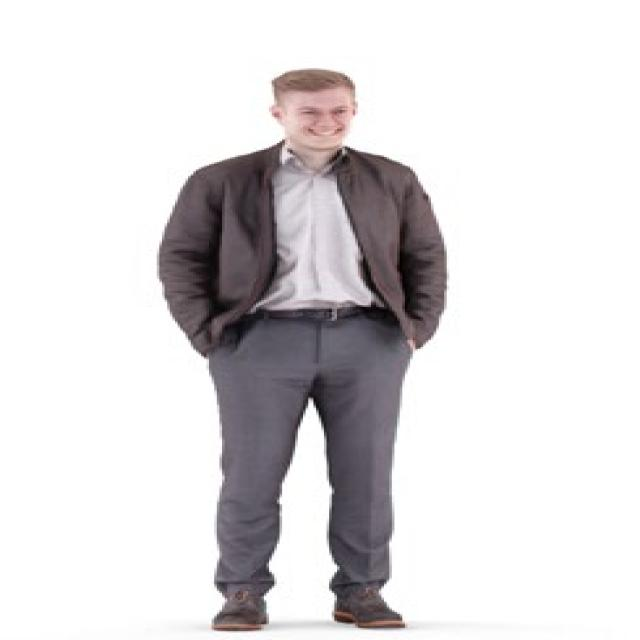standing: (154, 68, 448, 634)
